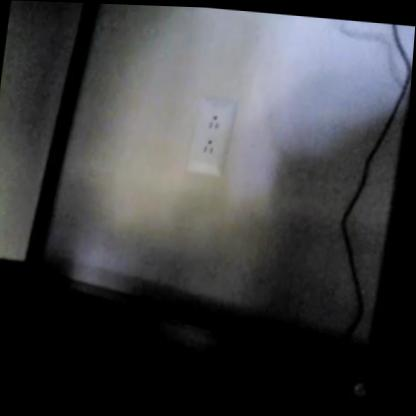OUTLET: (187, 97, 237, 177)
